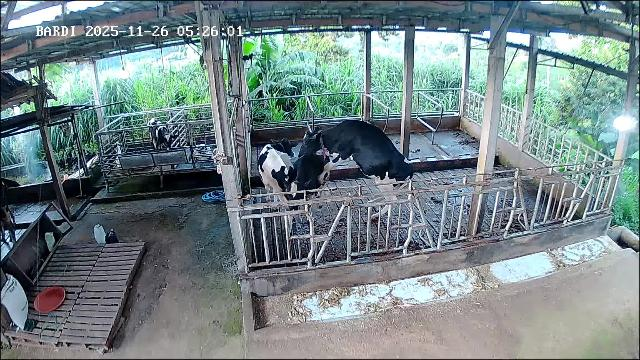mounting: (299, 119, 413, 217)
